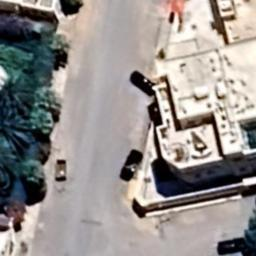sedan: (118, 148, 144, 182), (130, 69, 156, 97)
